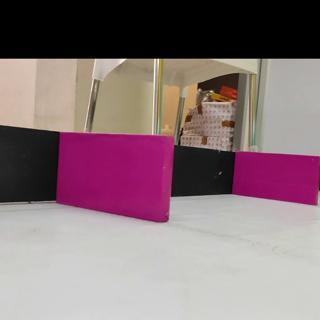xparking: (65, 135, 170, 213), (241, 157, 318, 201)
